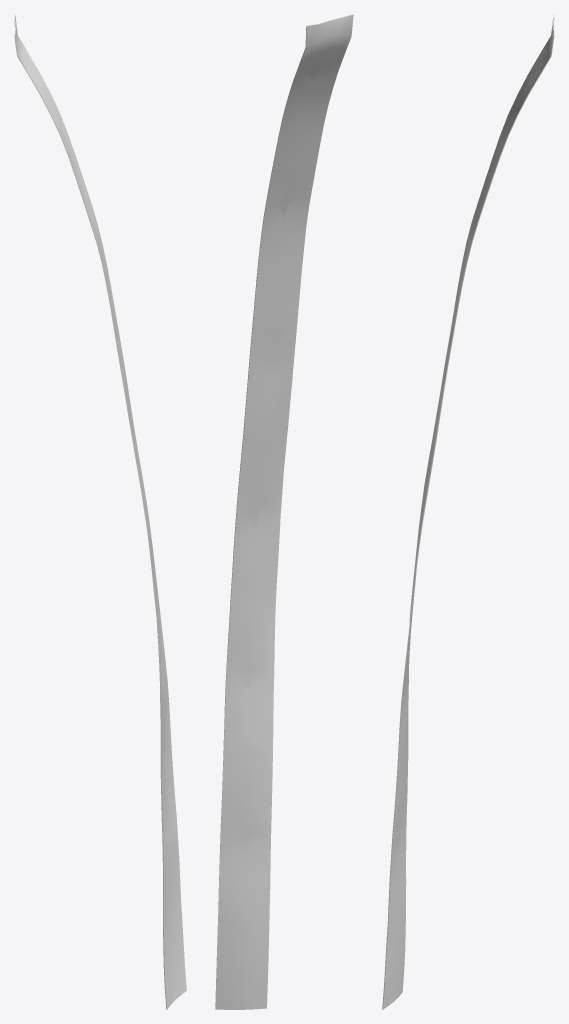
Rendered from front-placket.glb.
3 views of the same model, side by side, from view 1: azimuth 90°, elevation 25°; view 2: azimuth 210°, elevation 25°; view 3: azimuth 270°, elevation 25° (orthographic). The views are drawn at different scales.
Visible parts, largest first — view 1: Body_Front_1_Node; view 2: Body_Front_1_Node; view 3: Body_Front_1_Node.
Boxes of the visible parts, x1=… form: Body_Front_1_Node: x1=14, y1=14, x2=186, y2=1009; Body_Front_1_Node: x1=215, y1=14, x2=353, y2=1009; Body_Front_1_Node: x1=382, y1=14, x2=554, y2=1009.
Size of the model in its own units: 0.0311 by 0.6627 by 0.1062.
1 material, 1 textured.
